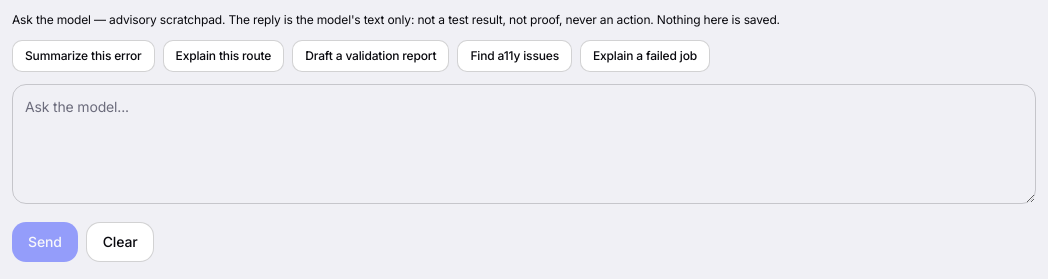
Scenario: AiScratchpad — 9.10 backend wiring › disables Send when the prompt is empty
expect the button "Send" is disabled: met, box [12,222,78,262]
In the text box named "prompt": [524, 144] box [12,84,1036,204], type "hi"
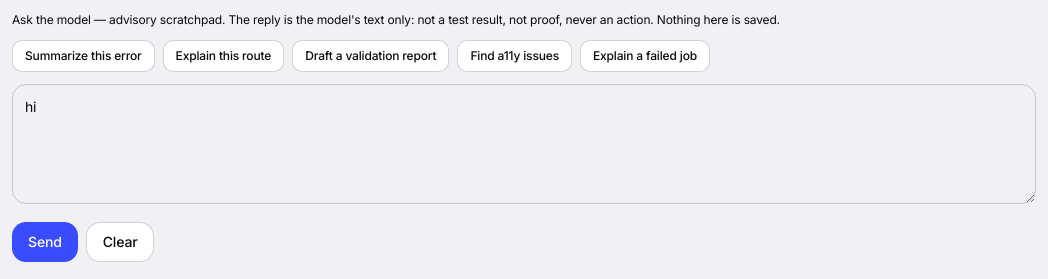
expect the button "Send" is enabled: met, box [12,222,78,262]
